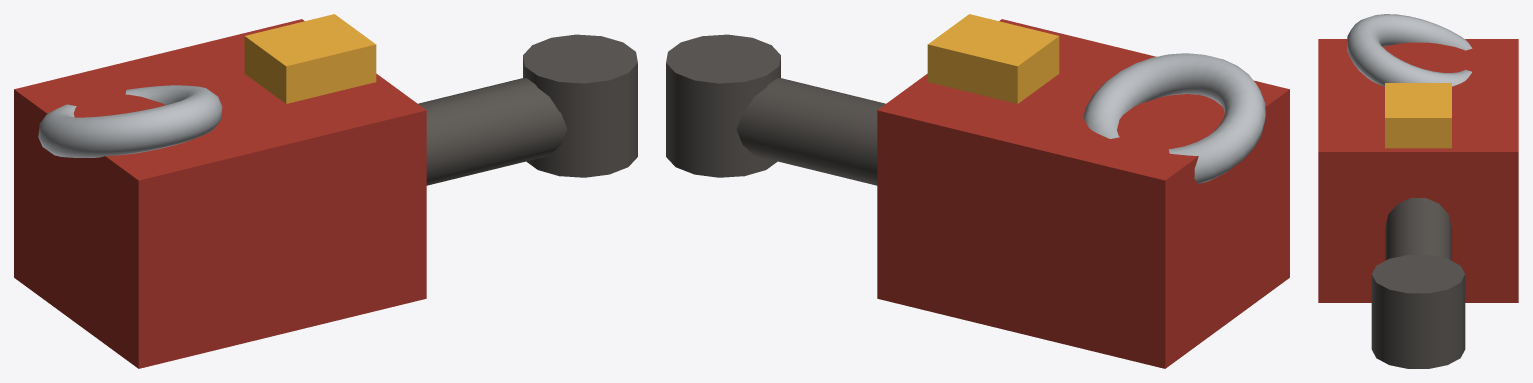
File: wok_eq_flame_booster.glb
3 renders of one model, left to right at view 1: azimuth 30°, elevation 25°; view 2: azimuth 150°, elevation 25°; view 3: azimuth 270°, elevation 25°, orthographic. The views are drawn at different scales.
Bounding box in the file's own units: 0.3223 × 0.1205 × 0.12.
